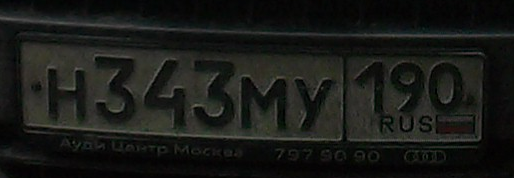character: (191, 52, 240, 132), (90, 51, 140, 129), (141, 54, 190, 132), (237, 73, 291, 134), (44, 63, 91, 126), (292, 73, 335, 136), (427, 59, 468, 119), (386, 61, 426, 119), (354, 59, 387, 118)
